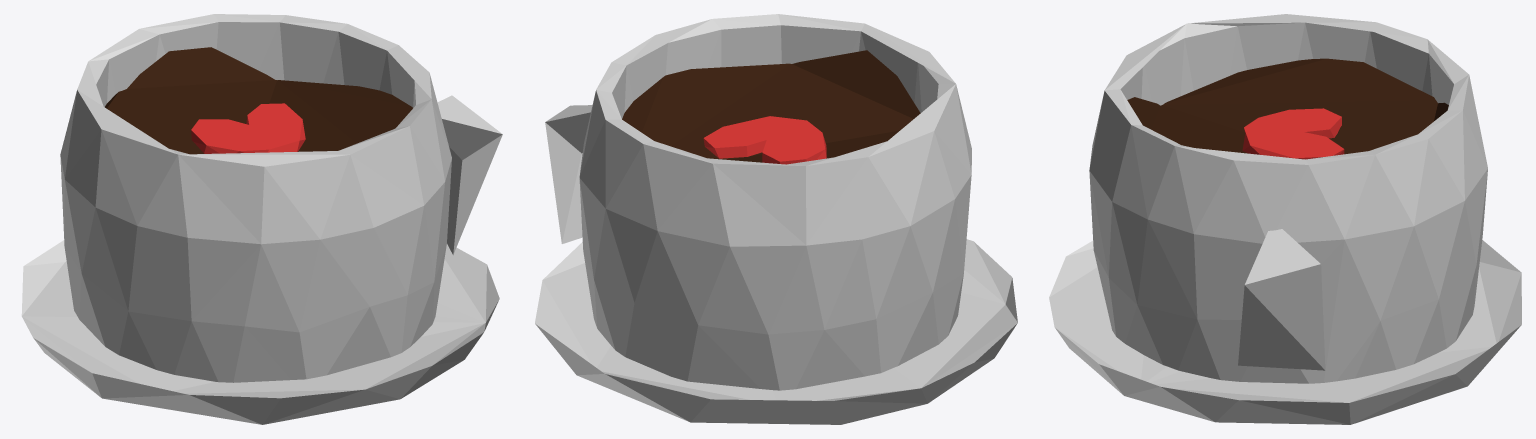
File: ourCup.glb
3 views of the same model, side by side, from view 1: azimuth 30°, elevation 25°; view 2: azimuth 150°, elevation 25°; view 3: azimuth 270°, elevation 25° (orthographic).
Parts seen in each view (by area): view 1: cup, cup.002, coffee, cup.001, heart; view 2: cup, cup.002, coffee, heart, cup.001; view 3: cup, cup.002, coffee, cup.001, heart.
Boxes of the visible parts, x1=… form: cup: x1=60, y1=14, x2=451, y2=382; cup.002: x1=21, y1=240, x2=499, y2=424; coffee: x1=105, y1=47, x2=412, y2=154; cup.001: x1=437, y1=95, x2=502, y2=254; heart: x1=191, y1=103, x2=305, y2=153; cup: x1=579, y1=14, x2=971, y2=390; cup.002: x1=535, y1=239, x2=1017, y2=424; coffee: x1=622, y1=50, x2=920, y2=162; heart: x1=703, y1=116, x2=826, y2=164; cup.001: x1=545, y1=105, x2=592, y2=243; cup: x1=1089, y1=14, x2=1487, y2=383; cup.002: x1=1049, y1=240, x2=1521, y2=424; coffee: x1=1127, y1=58, x2=1448, y2=154; cup.001: x1=1238, y1=229, x2=1325, y2=370; heart: x1=1242, y1=108, x2=1344, y2=159.
Bounding box in the file's own units: 6.46 × 3.52 × 6.03.
